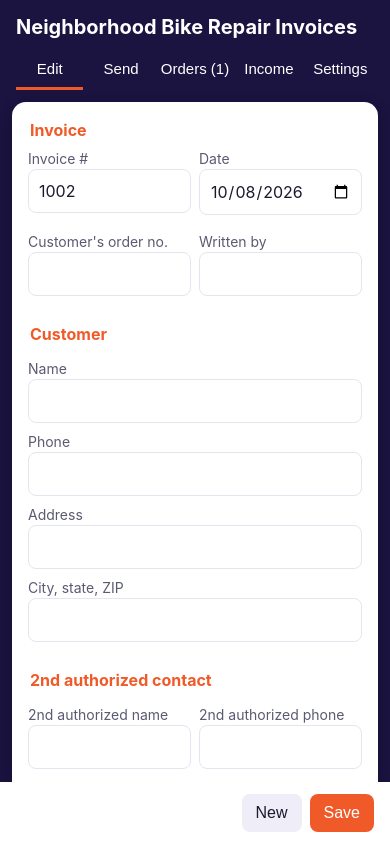
Test: Income tab Ask › shows only an Ask button until tapped, then asks with the income figures
The image size is (390, 844).
Step 1. Click the tab "Income" → (269, 70), box x1=235 y1=50 x2=303 y2=90
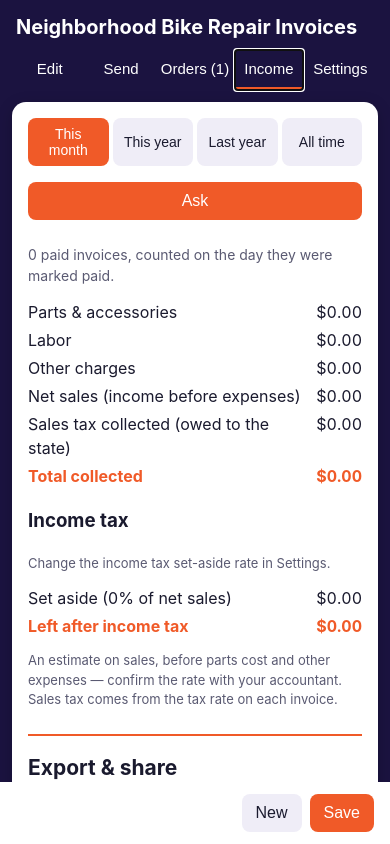
Expected: the field labelled "Ask about your income" is not shown
Step 2. Click the button "Ask" → (195, 201), box x1=28 y1=182 x2=362 y2=220
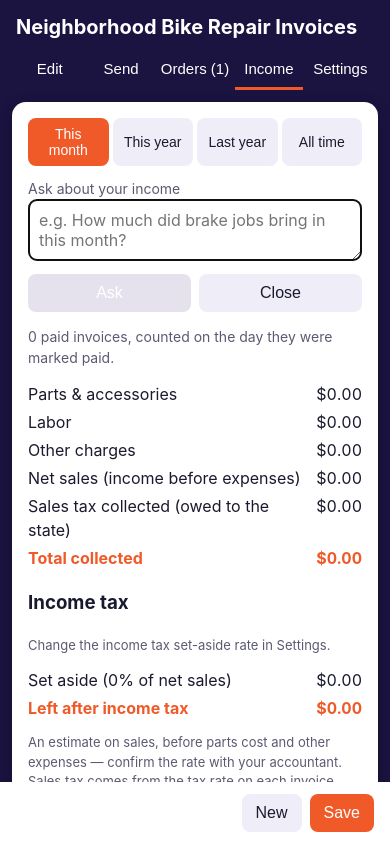
Step 3. Type "What did I make?" into the text box labelled "Ask about your income" → (195, 230), box x1=28 y1=199 x2=362 y2=261
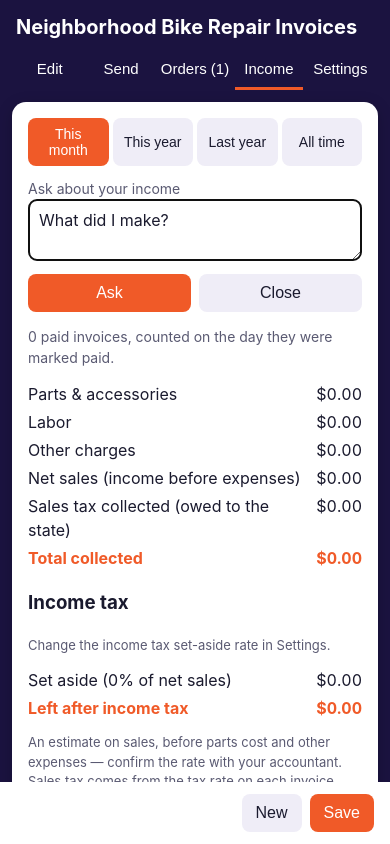
Step 4. Click the button "Ask" → (110, 293), box x1=28 y1=274 x2=191 y2=312
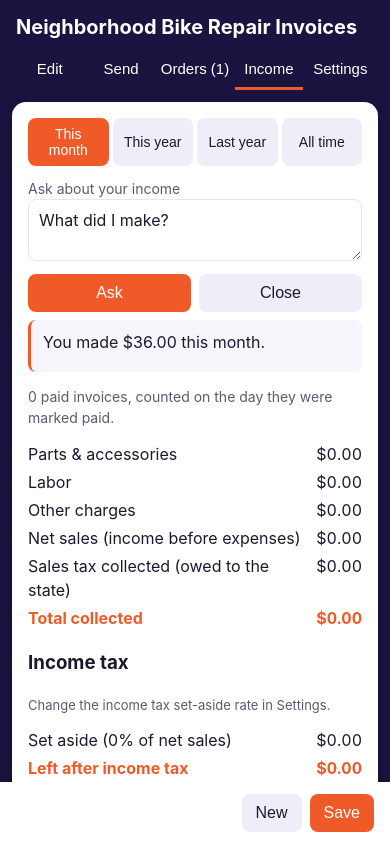
Expected: the text "You made $36.00 this month." is shown, x1=43 y1=332 x2=265 y2=352
Step 5. Click the button "Close" → (280, 293), box x1=199 y1=274 x2=362 y2=312
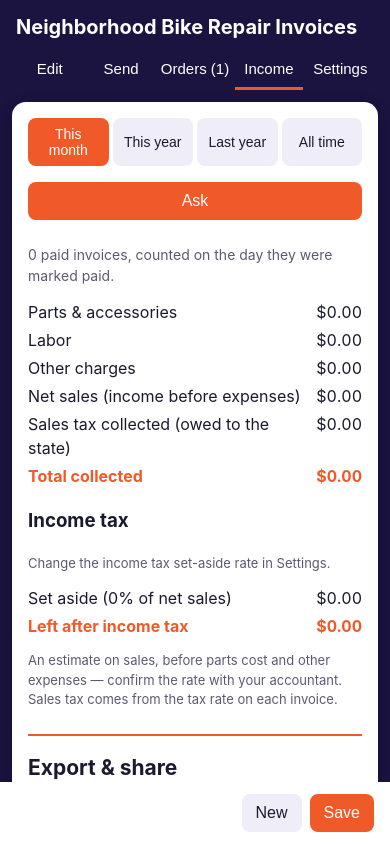
Expected: the button "Ask" is shown, x1=28 y1=182 x2=362 y2=220
Expected: the label labelled "Ask about your income" is gone
